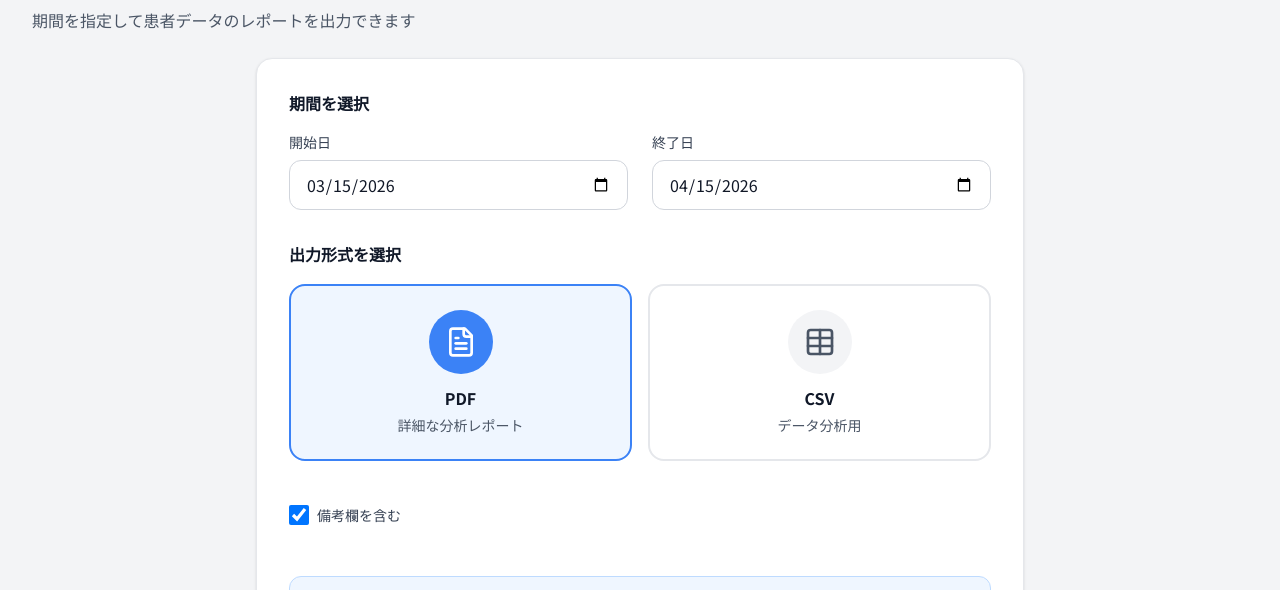
Test: S-07 ReportGeneration › date range selection › should require both start and end dates
// Clear start date to trigger validation
Clear the date field labelled "開始日" at (458, 185), box [289,160,628,210]
(page scrolled)
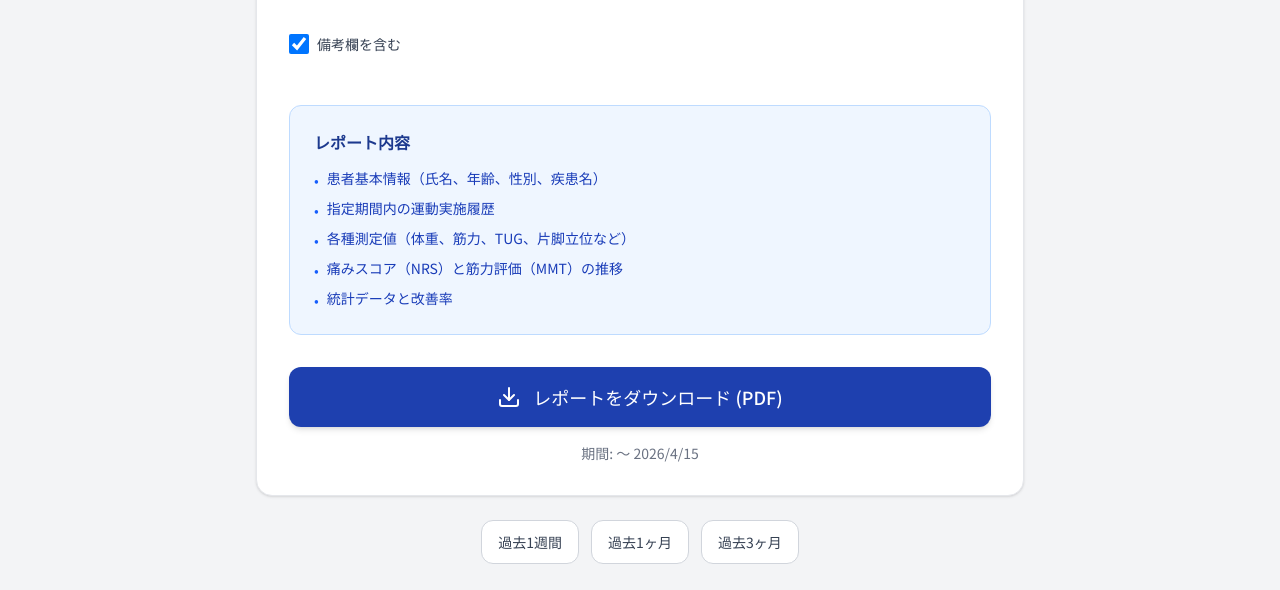
Click the button "レポートをダウンロード (PDF)" at (640, 397), box [289,367,991,427]
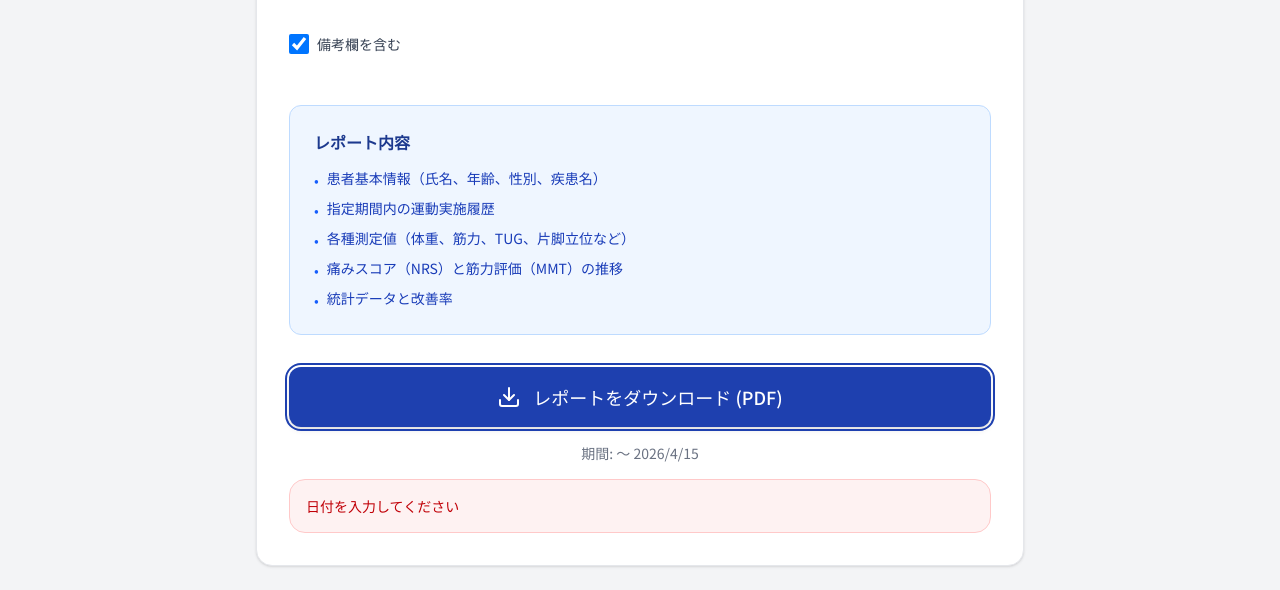
Expected: the text "日付を入力してください" is shown, [306,496,459,516]
